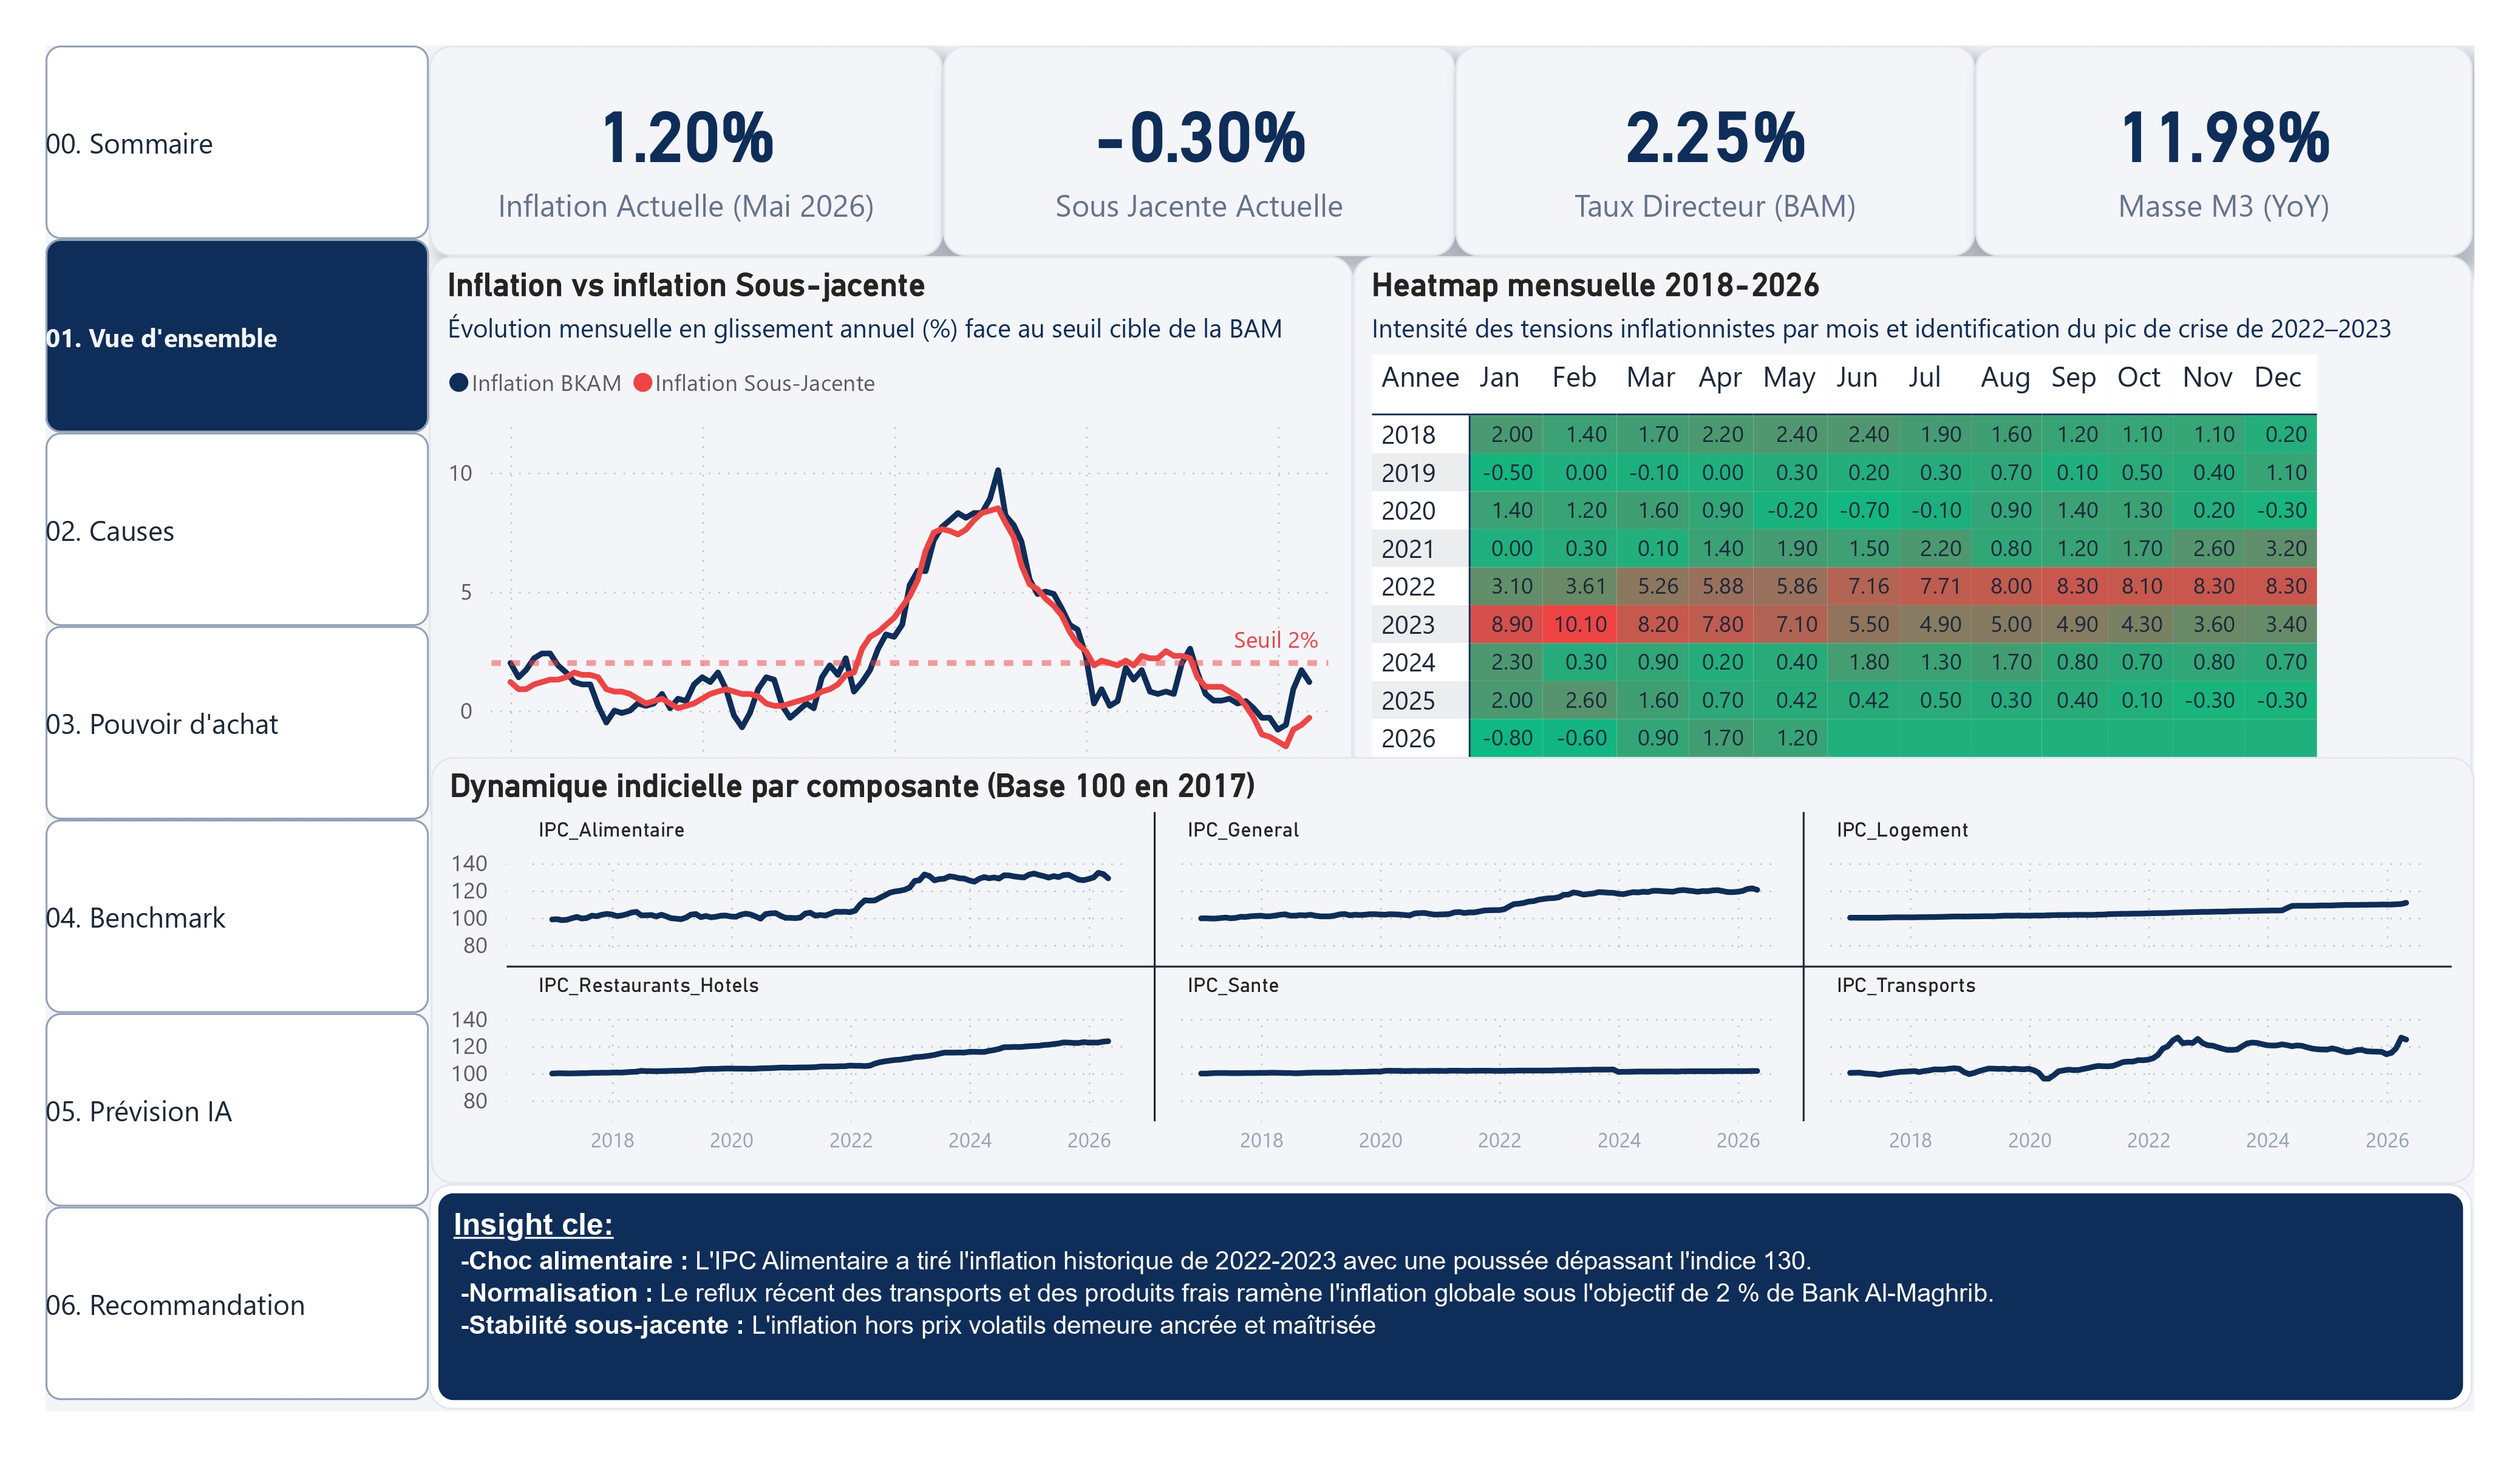

The page's visual inventory and layout, read from the dashboard file:
{"tool":"powerbi","page":{"name":" 01. Vue d'ensemble","canvas":[1280,720],"ordinal":1},"visuals":[{"type":"card","fields":{"Values":["_Mesures.Inflation_Actuelle"]},"box":[201.6,0,271.4,111.1],"z":0},{"type":"card","fields":{"Values":["_Mesures.Derniere_Inflation_SousJacente"]},"box":[473,0,269.8,111.1],"z":1000},{"type":"card","fields":{"Values":["_Mesures.Taux_Directeur"]},"box":[742.9,0,274.6,111.1],"z":2000},{"type":"lineChart","title":"Inflation vs inflation Sous-jacente ","fields":{"Category":["Calendrier.Date"],"Y":["_Mesures.Inflation BKAM","_Mesures.Inflation Sous-Jacente"]},"box":[201.6,111.1,487.3,300],"z":3000},{"type":"card","fields":{"Values":["_Mesures.Croissance_M3_YoY"]},"box":[1017.5,0,261.9,111.1],"z":4000},{"type":"pivotTable","title":"Heatmap mensuelle 2018-2026","fields":{"Rows":["Calendrier.Annee"],"Columns":["Calendrier.NomMois"],"Values":["Avg(Fait_Inflation.Inflation_BKAM)"]},"box":[688.9,111.1,590.5,300],"z":5000},{"type":"pageNavigator","box":[0,0,201.9,719.2],"z":6000},{"type":"lineChart","title":"Dynamique indicielle par composante (Base 100 en 2017)","fields":{"Y":["Avg(Fait_IPC_Secteurs.Valeur_IPC)"],"Category":["Fait_IPC_Secteurs.date"],"Rows":["Fait_IPC_Secteurs.Secteur"]},"box":[203.3,375,1076.7,225],"z":7000},{"type":"shape","box":[201.9,600,1076.9,119.2],"z":8000},{"type":"textbox","box":[209.6,607.7,1059.6,101.9],"z":9000}]}

Visuals, with their boxes on the page's 1280x720 design canvas (x1, y1, x2, y2). These are canvas units, not pixel positions in the 2520x1457 screenshot, which may show the page scaled, cropped or inside an application window:
card - _Mesures.Inflation_Actuelle: BBox(202, 0, 473, 111)
card - _Mesures.Derniere_Inflation_SousJacente: BBox(473, 0, 743, 111)
card - _Mesures.Taux_Directeur: BBox(743, 0, 1018, 111)
"Inflation vs inflation Sous-jacente " lineChart: BBox(202, 111, 689, 411)
card - _Mesures.Croissance_M3_YoY: BBox(1018, 0, 1279, 111)
"Heatmap mensuelle 2018-2026" pivotTable: BBox(689, 111, 1279, 411)
pageNavigator: BBox(0, 0, 202, 719)
"Dynamique indicielle par composante (Base 100 en 2017)" lineChart: BBox(203, 375, 1280, 600)
shape: BBox(202, 600, 1279, 719)
textbox: BBox(210, 608, 1269, 710)
